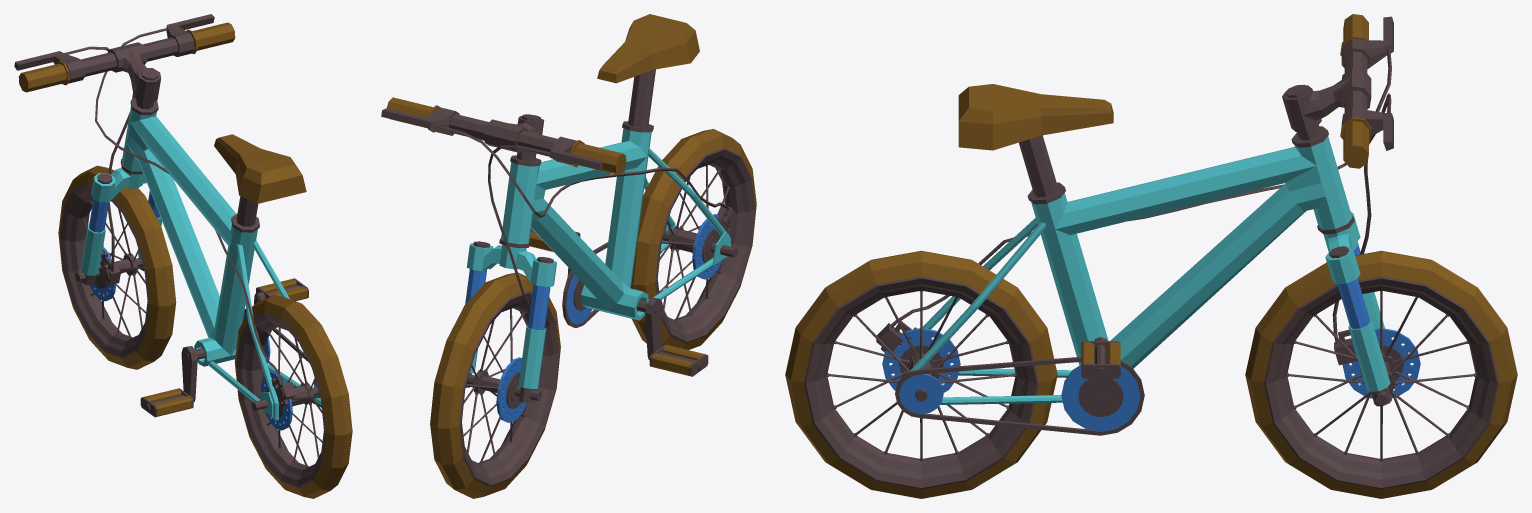
File: _icycle.fbx
3 renders of one model, left to right at view 1: azimuth 30°, elevation 25°; view 2: azimuth 150°, elevation 25°; view 3: azimuth 270°, elevation 25°, orthographic. The views are drawn at different scales.
Parts seen in each view (by area): view 1: Bike; view 2: Bike; view 3: Bike.
Boxes of the visible parts, x1,y1,x2,y2 form: Bike: (14, 14, 352, 498); Bike: (381, 14, 756, 498); Bike: (785, 14, 1517, 498).
Bounding box in the file's own units: 96.5 × 144 × 227.
